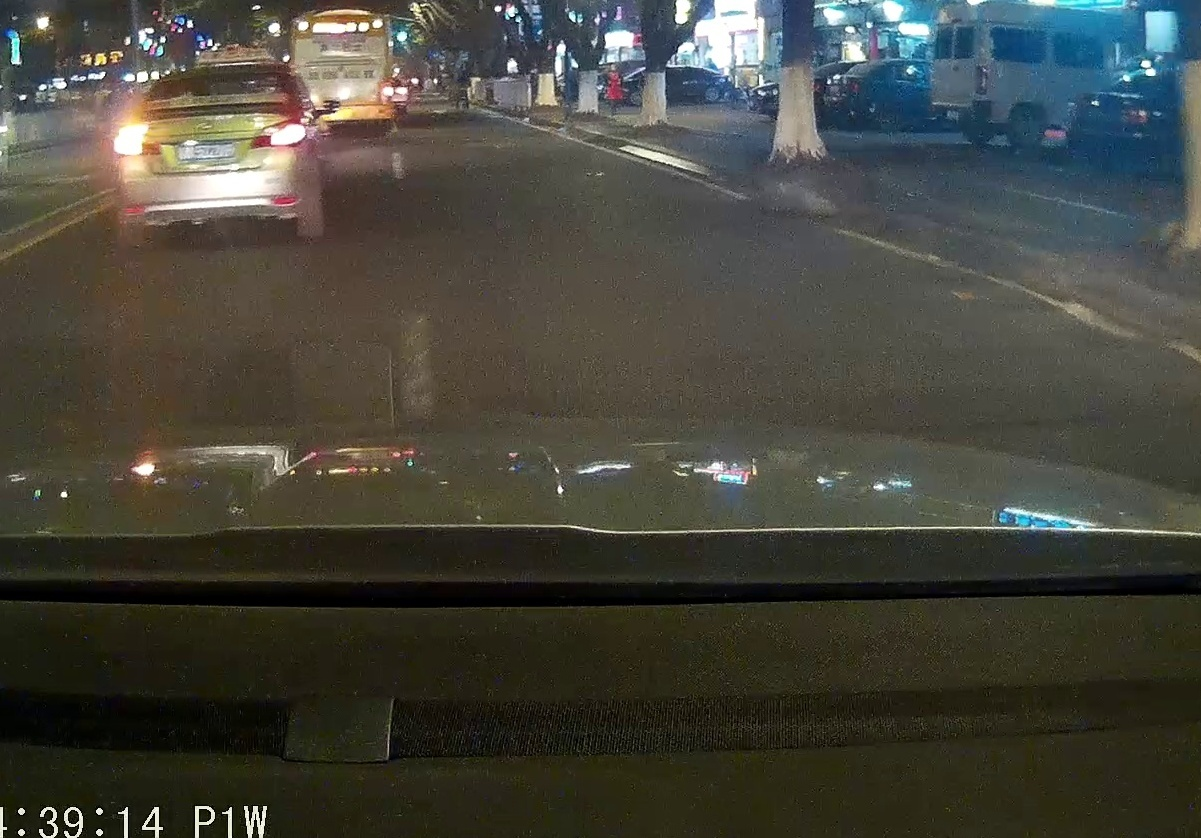L_light: (113, 125, 162, 156)
R_light: (247, 117, 308, 149)
T_light: (198, 74, 225, 79)
night-left: (111, 61, 324, 248)
